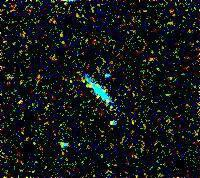star: (74, 72, 104, 102)
